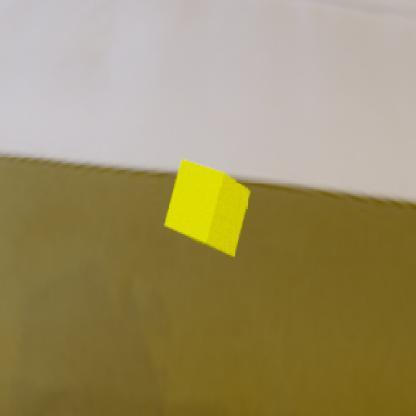yellow_cube: (164, 158, 250, 256)
